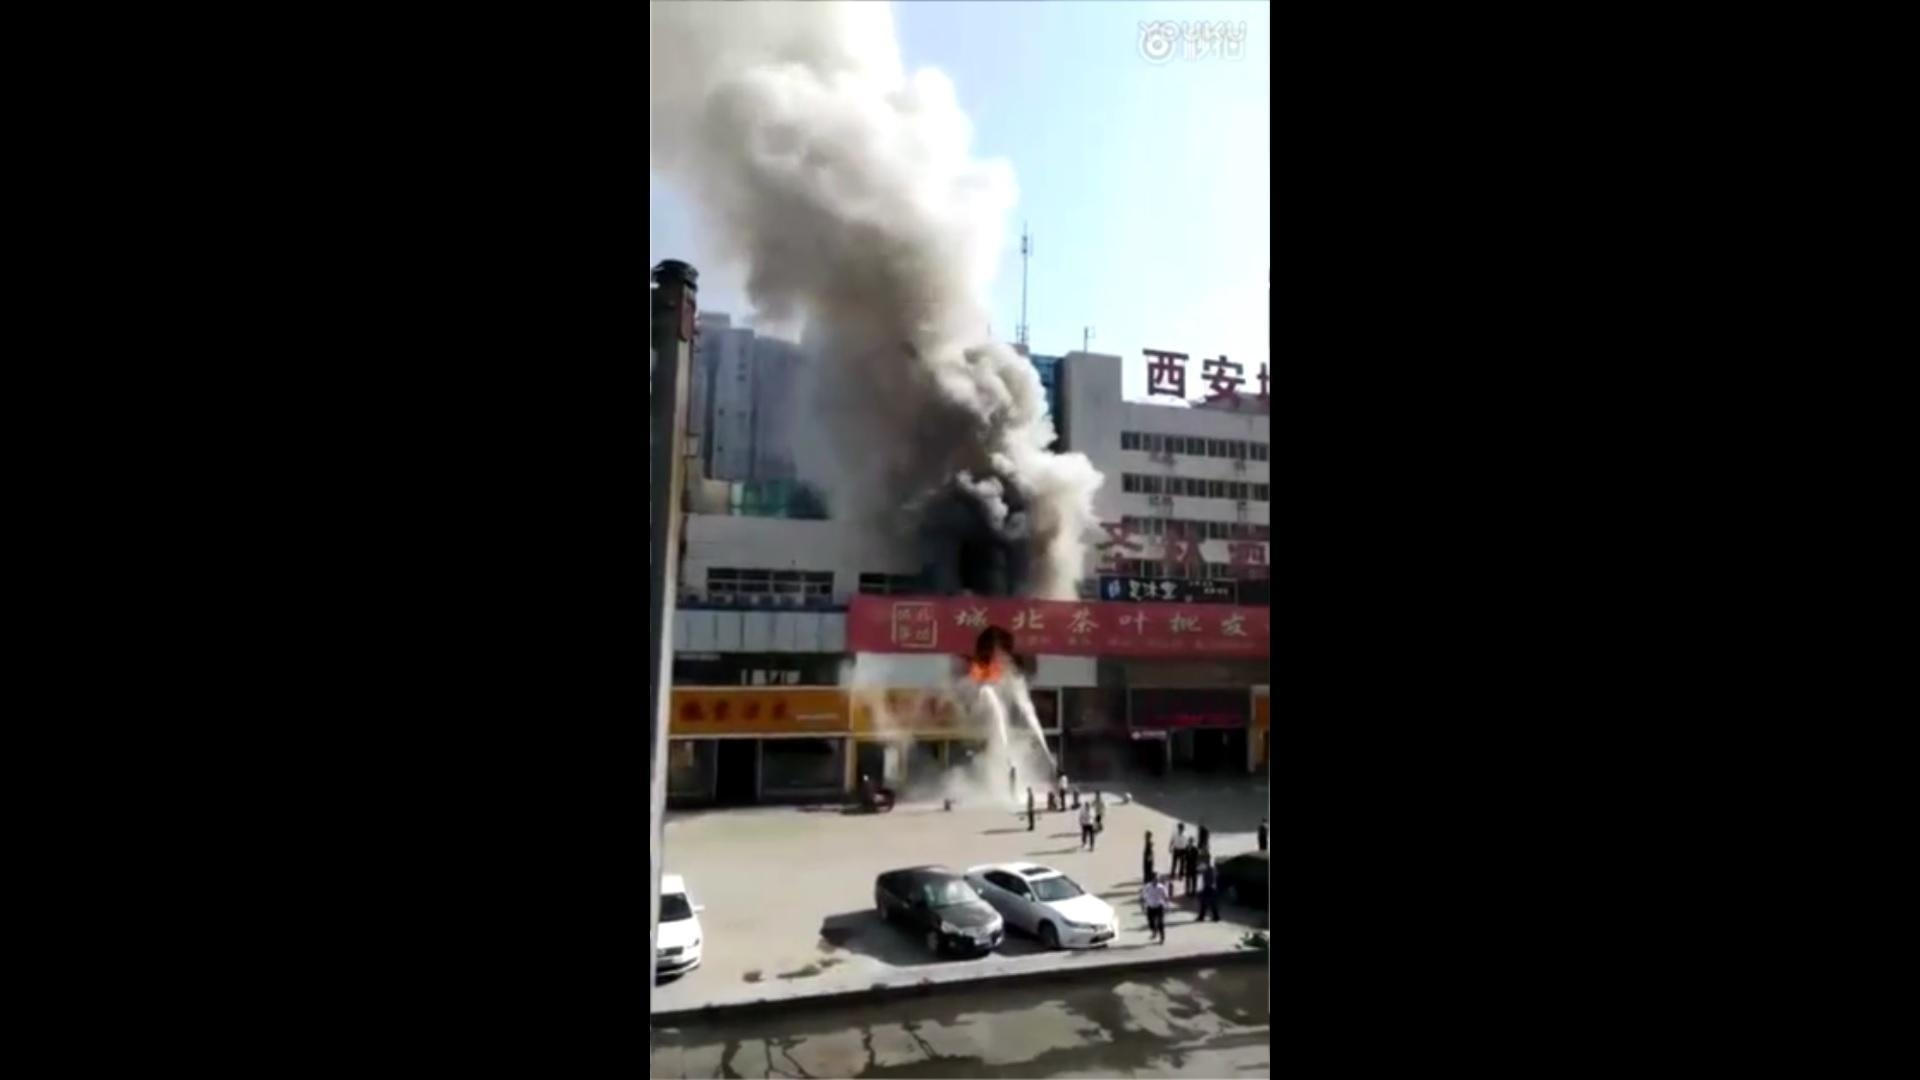fire: (964, 654, 1004, 684)
